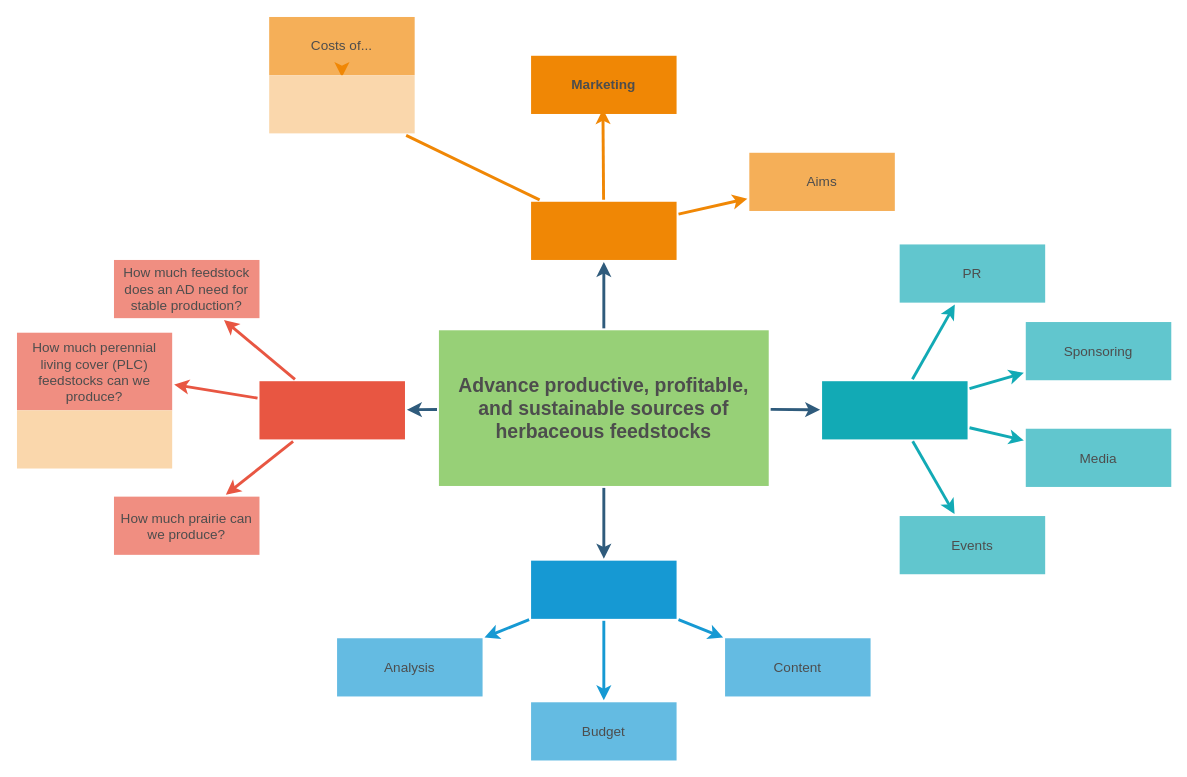
This 1187x777 diagram has some shape labels left out. The centre of each missing label's shape, as x and y in pixels:
"Economics" belongs at [603,230].
"Ecosystem services" belongs at [603,589].
"Feedstock production" belongs at [331,410].
"LCA" belongs at [894,410].
"prairie, cover crop(s), biogas" belongs at [341,104].
"Prairie, cover crops" belongs at [94,439].
